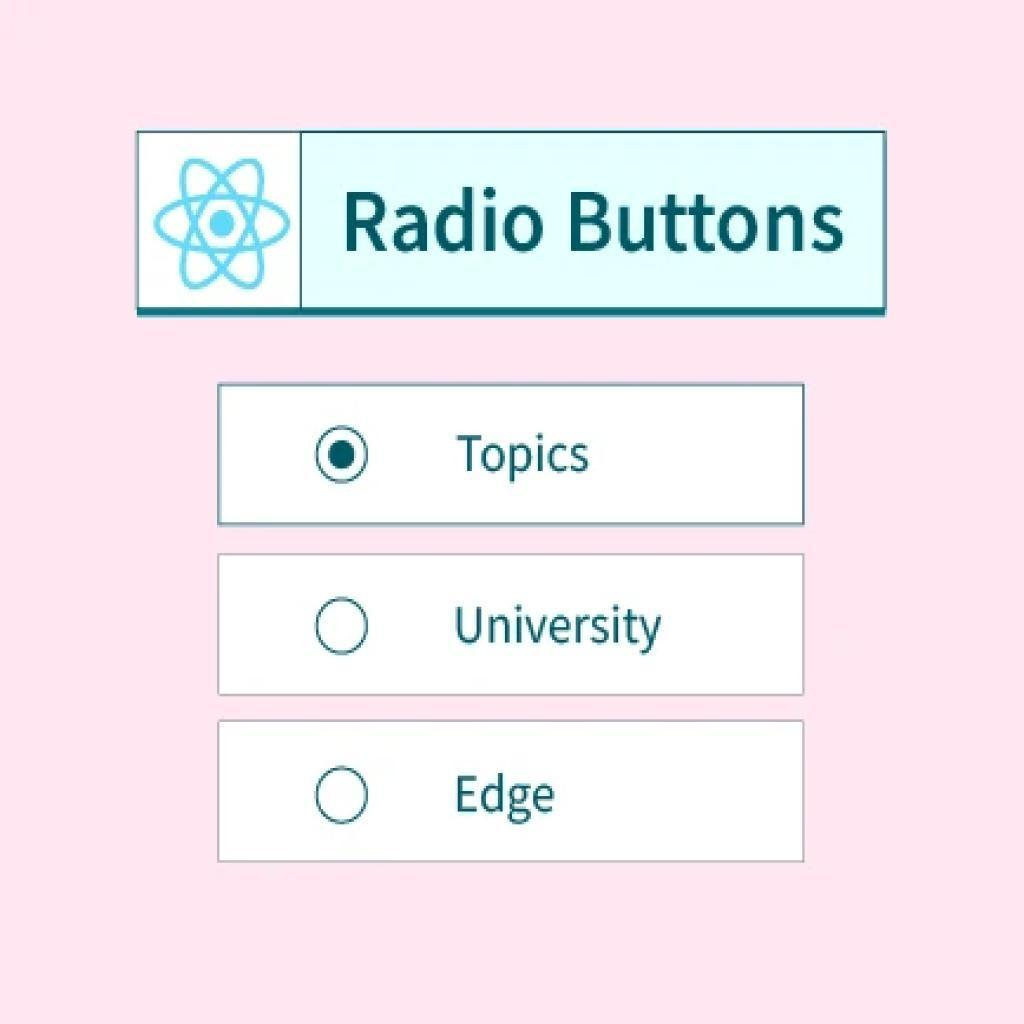label: (456, 600, 663, 668), (459, 429, 597, 482), (454, 765, 561, 823)
radio: (310, 426, 377, 486), (314, 595, 375, 658), (315, 768, 377, 825)
